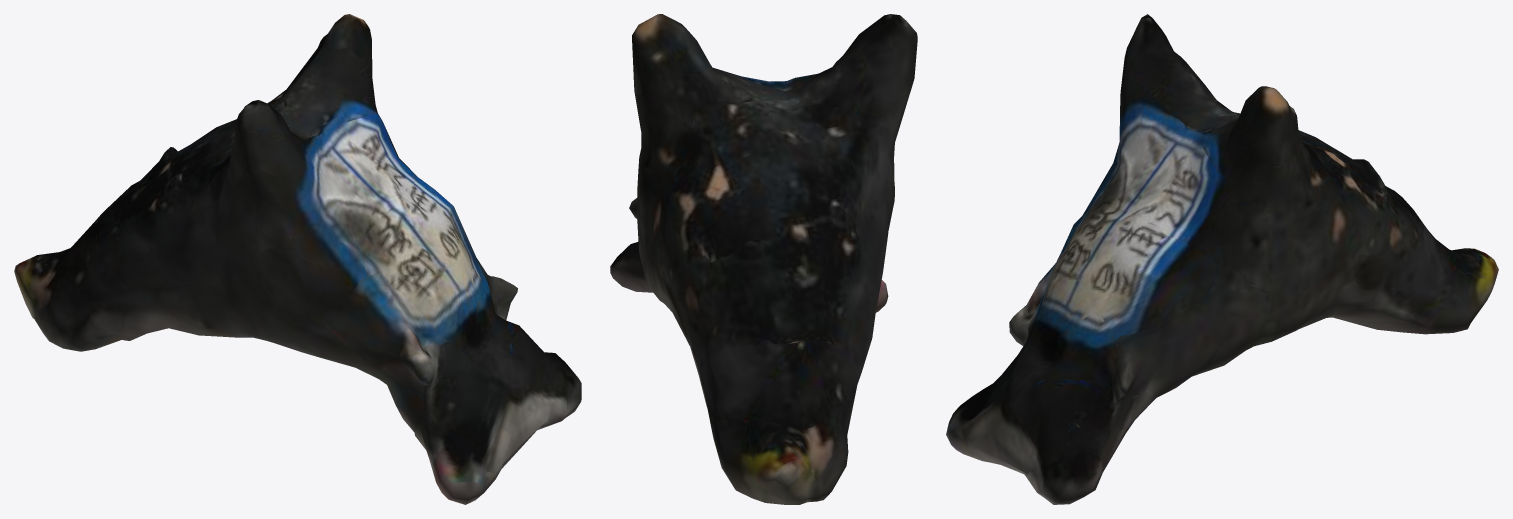
File: hall.glb
The picture shows the model from 3 angles, left to right: view 1: azimuth 30°, elevation 25°; view 2: azimuth 150°, elevation 25°; view 3: azimuth 270°, elevation 25°; orthographic projection. The views are drawn at different scales.
Bounding box in the file's own units: 0.5223 × 0.5014 × 0.6637.
1 material, 1 textured.
